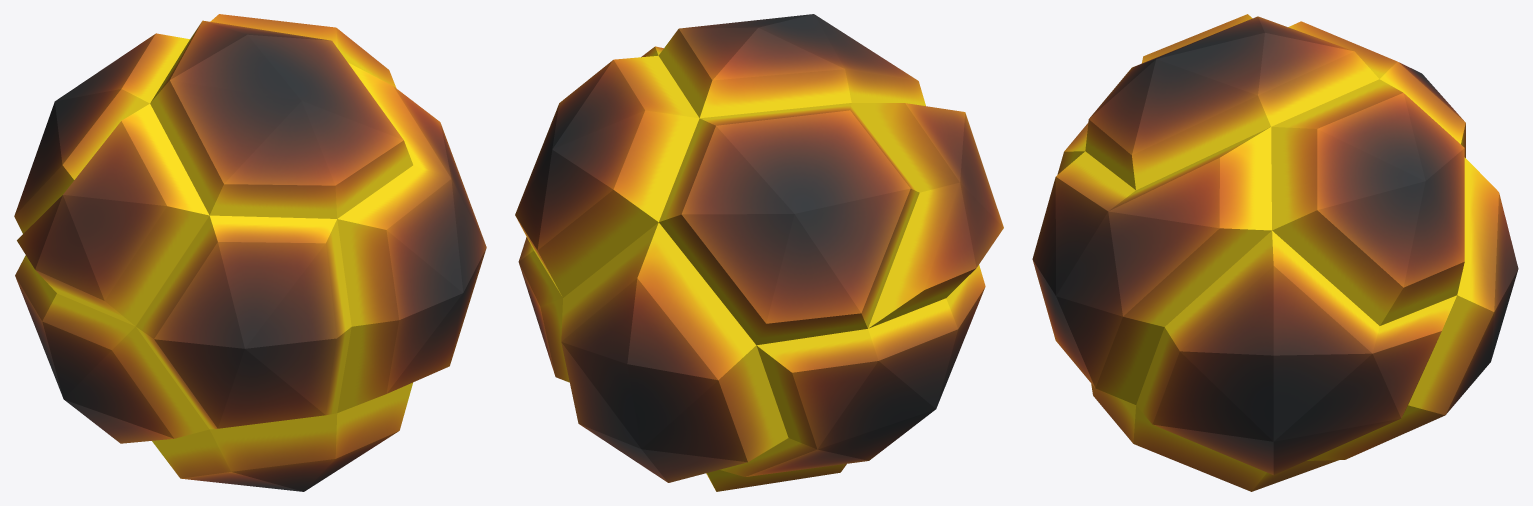
File: FX_Hero_Mage_AtkSkill_001_Meteor.FBX
3 views of the same model, side by side, from view 1: azimuth 30°, elevation 25°; view 2: azimuth 150°, elevation 25°; view 3: azimuth 270°, elevation 25° (orthographic). The views are drawn at different scales.
Parts seen in each view (by area): view 1: FX_Mage_Burn__Meteor_001; view 2: FX_Mage_Burn__Meteor_001; view 3: FX_Mage_Burn__Meteor_001.
Boxes of the visible parts, <box> form: FX_Mage_Burn__Meteor_001: <box>14,14,486,491</box>; FX_Mage_Burn__Meteor_001: <box>515,14,1003,491</box>; FX_Mage_Burn__Meteor_001: <box>1032,14,1518,491</box>.
Bounding box in the file's own units: 167 × 169 × 168.
Materials: 1 (1 with a texture image).
